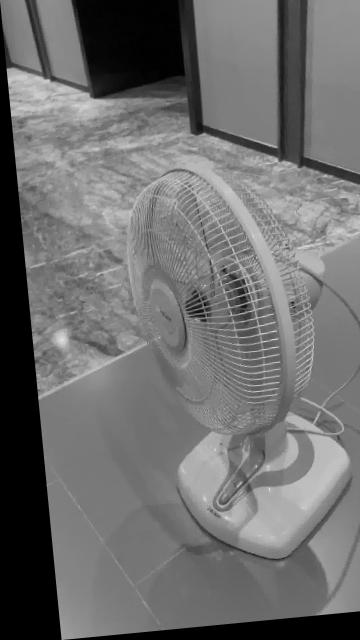Fan: (122, 166, 341, 565)
